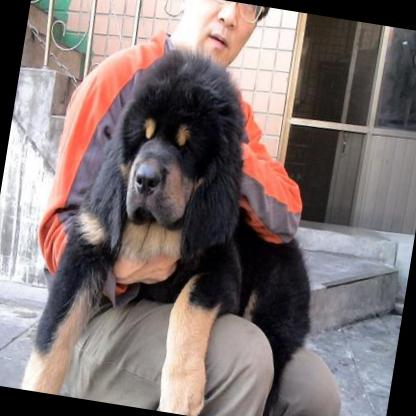Tibetan_mastiff: (18, 24, 352, 416)
